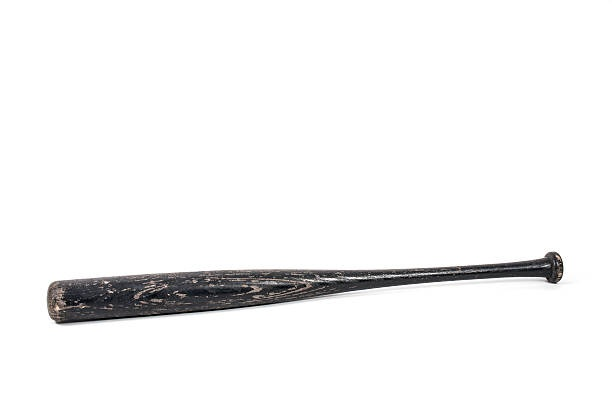bita: (46, 251, 565, 322)
